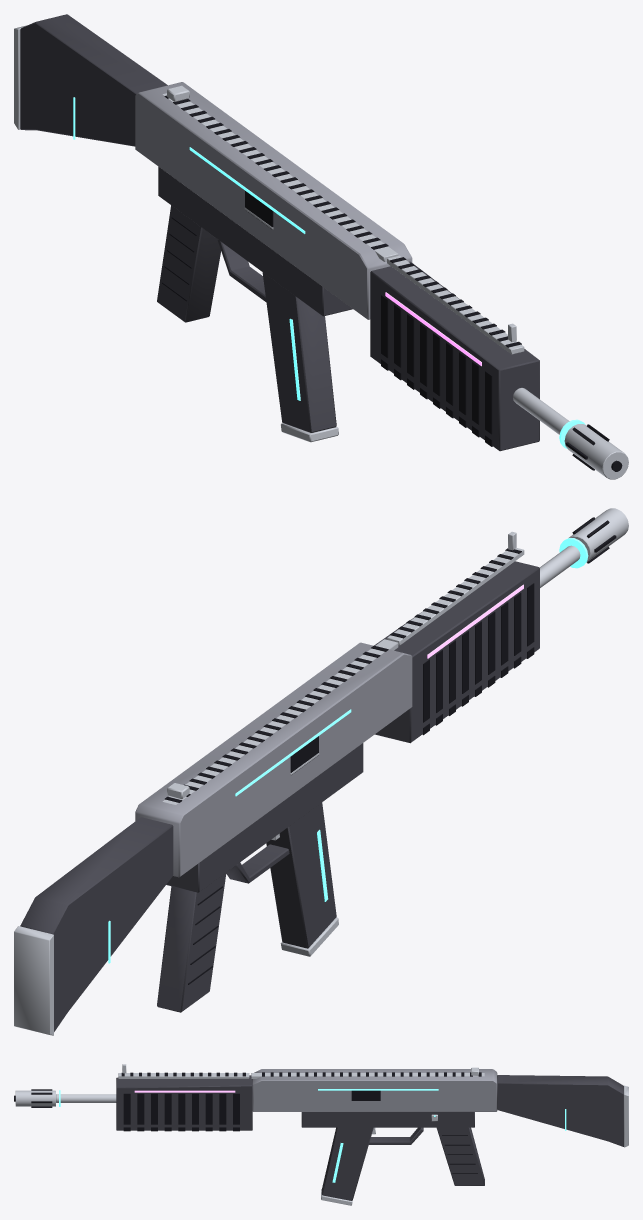
Rendered from w_rifle.glb.
3 renders of one model, top to bottom at view 1: azimuth 30°, elevation 25°; view 2: azimuth 150°, elevation 25°; view 3: azimuth 270°, elevation 25°, orthographic. The views are drawn at different scales.
Visible parts, largest first — view 1: grip, body, dark, metal, grip.mag, acc; view 2: grip, body, metal, dark, grip.mag, acc; view 3: grip, body, dark, metal, grip.mag, acc, heat.
Part boxes in pixels (box(x1,y1,x2,y2)): grip: box(20, 14, 539, 451); body: box(135, 82, 412, 319); dark: box(162, 95, 622, 471); metal: box(14, 25, 628, 479); grip.mag: box(262, 272, 336, 432); acc: box(73, 97, 585, 449); grip: box(20, 561, 539, 1031); body: box(135, 642, 412, 877); metal: box(14, 508, 628, 1035); dark: box(165, 517, 616, 984); grip.mag: box(266, 802, 336, 948); acc: box(108, 538, 588, 963); grip: box(116, 1075, 623, 1185); body: box(252, 1069, 497, 1111); dark: box(14, 1072, 481, 1173); metal: box(15, 1064, 628, 1147); grip.mag: box(322, 1127, 373, 1200); acc: box(59, 1089, 566, 1130); heat: box(134, 1090, 235, 1092).
Bounding box in the file's own units: 0.0746 × 0.3767 × 1.53.
